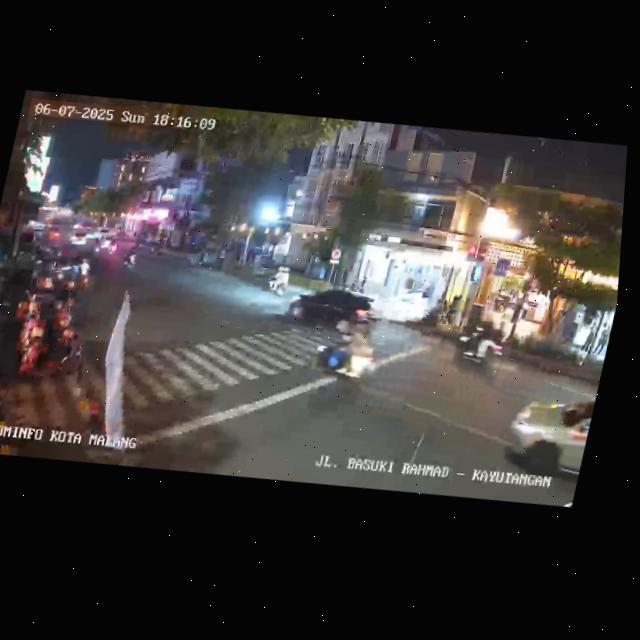car: (495, 382, 597, 497), (284, 278, 382, 341)
motorcycle: (303, 310, 388, 396), (452, 316, 510, 377), (265, 263, 293, 296), (59, 259, 82, 298), (120, 244, 142, 273), (75, 259, 94, 292), (103, 238, 122, 257)
person: (443, 291, 462, 326), (593, 323, 612, 357), (582, 321, 599, 354)
